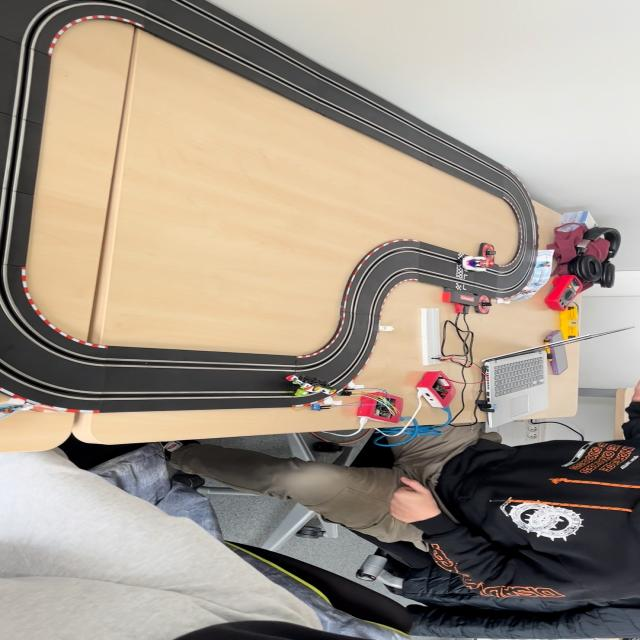mario: (459, 255, 500, 273)
yoshi: (282, 372, 341, 399)
